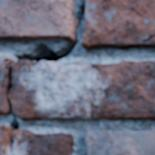brick: (81, 0, 154, 49), (0, 0, 73, 39), (86, 131, 154, 154)
broken_brick: (10, 60, 154, 121), (0, 124, 74, 154), (0, 55, 12, 85), (0, 89, 9, 115)
crack: (0, 2, 86, 152)
